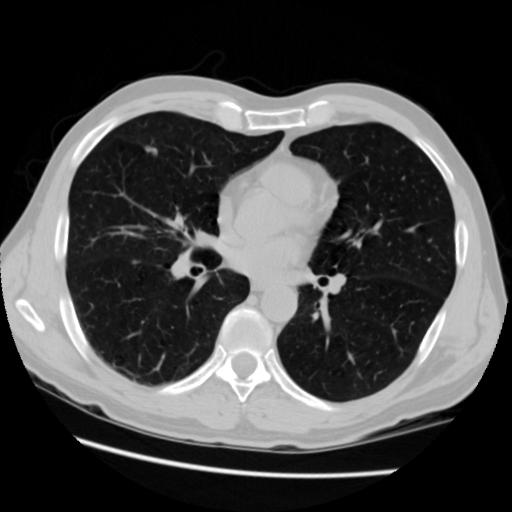nodule: (143, 143, 160, 160)
